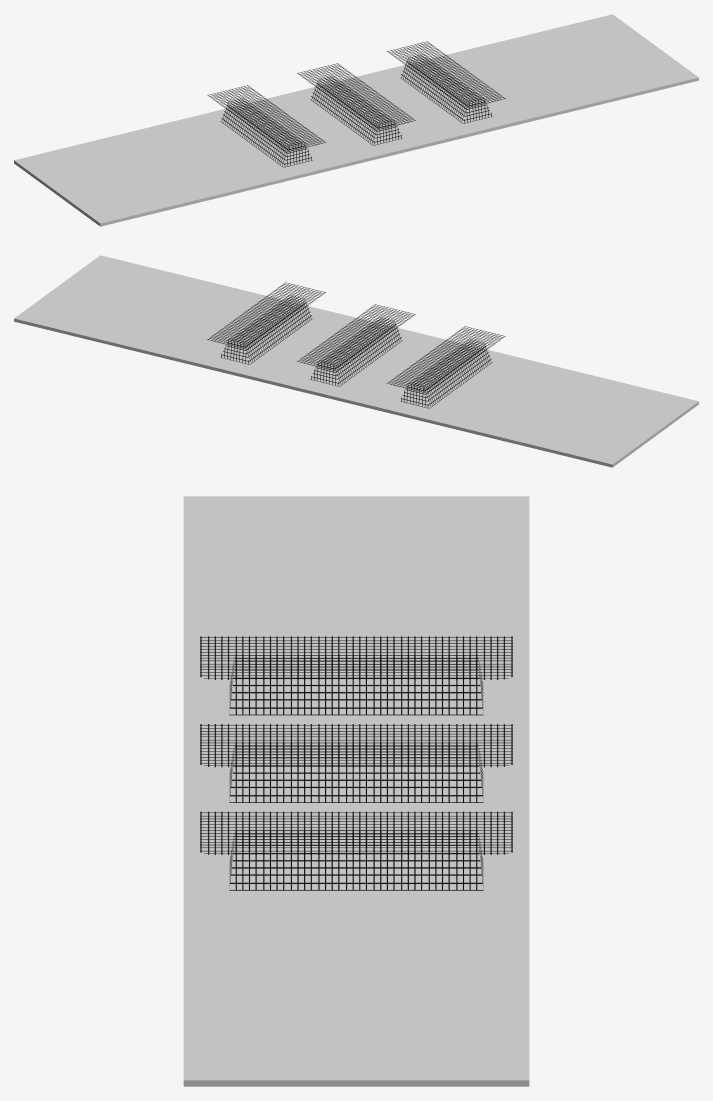
Rendered from exhbt-opt.glb.
3 renders of one model, top to bottom at view 1: azimuth 30°, elevation 25°; view 2: azimuth 150°, elevation 25°; view 3: azimuth 270°, elevation 25°, orthographic. The views are drawn at different scales.
Parts seen in each view (by area): view 1: Mesh_8.006, . 3; view 2: Mesh_8.006, . 3; view 3: Mesh_8.006, . 3.
Part boxes in pixels (x1,y1,x2,y2): Mesh_8.006: [14, 14, 698, 226]; . 3: [207, 41, 505, 167]; Mesh_8.006: [14, 255, 698, 467]; . 3: [207, 282, 505, 408]; Mesh_8.006: [183, 496, 529, 1086]; . 3: [200, 636, 512, 890].
Size of the model in its own units: 40 by 1.61 by 10.
2 materials, 1 textured.
